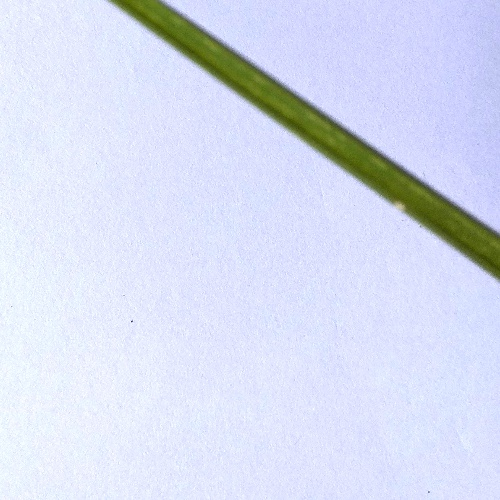Busuk Leher: (389, 191, 413, 214)
